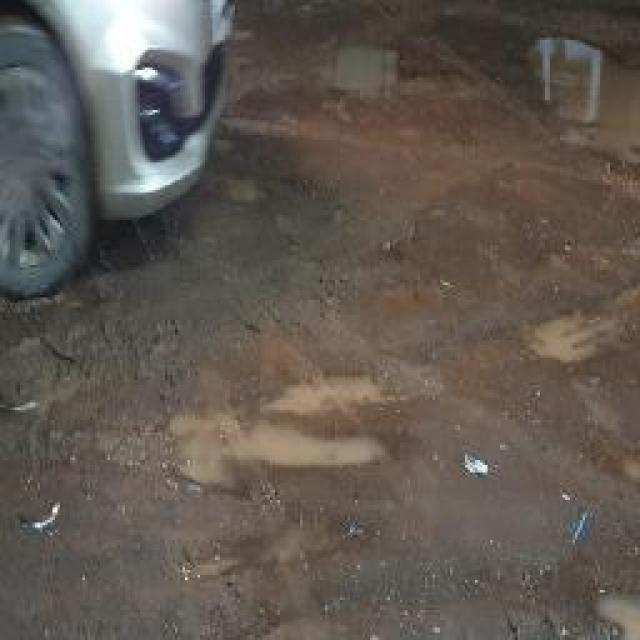waterlogging: (158, 333, 432, 513), (510, 22, 640, 176)
